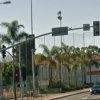Palm tree: (5, 13, 33, 96)
